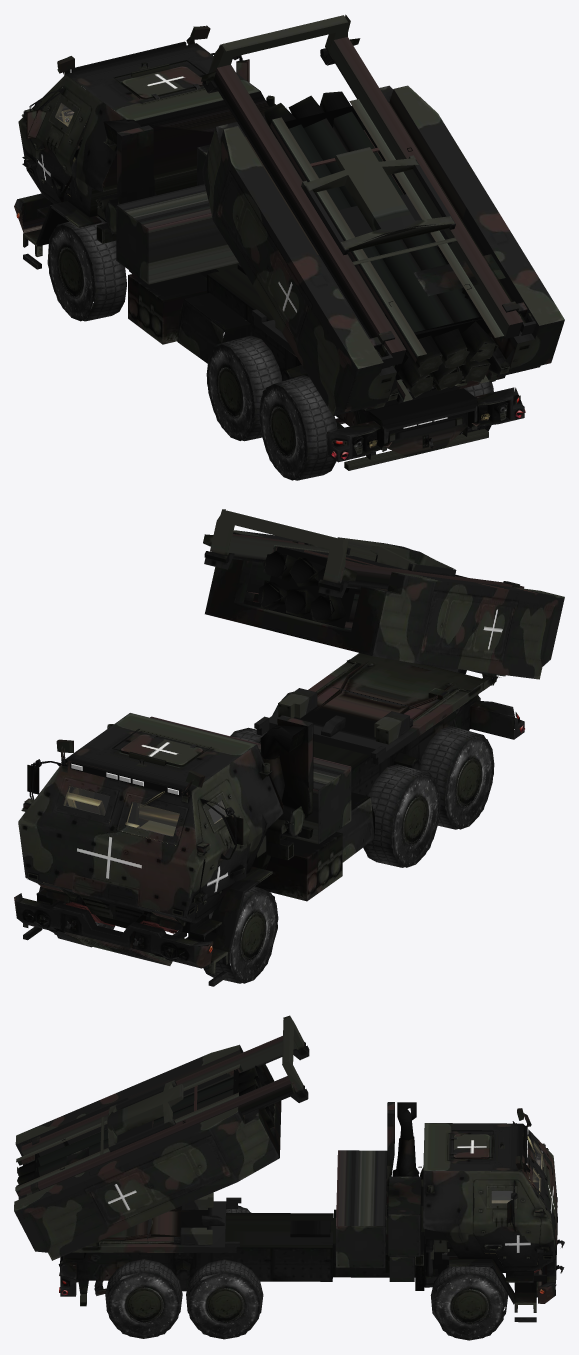
The model's file is type_himars.glb.
3 views of the same model, one above another, from view 1: azimuth 30°, elevation 25°; view 2: azimuth 150°, elevation 25°; view 3: azimuth 270°, elevation 25° (orthographic). The views are drawn at different scales.
Visible parts, largest first — view 1: misc_a_Material #147_0, chassis_Material #147_0, wheels_1_Material #147_0, bonnet_dam_Material #147_0; view 2: chassis_Material #147_0, misc_a_Material #147_0, wheels_1_Material #147_0, bonnet_dam_Material #148_0, glass_03 - Default_0, bonnet_dam_Material #147_0; view 3: chassis_Material #147_0, misc_a_Material #147_0, wheels_1_Material #147_0, bonnet_dam_Material #147_0, bonnet_dam_Material #148_0, glass_03 - Default_0.
Part boxes in pixels (bbox=[...]): misc_a_Material #147_0: bbox=[201, 14, 564, 415]; chassis_Material #147_0: bbox=[14, 25, 525, 470]; wheels_1_Material #147_0: bbox=[47, 218, 493, 480]; bonnet_dam_Material #147_0: bbox=[122, 53, 247, 99]; chassis_Material #147_0: bbox=[14, 653, 524, 986]; misc_a_Material #147_0: bbox=[203, 509, 564, 685]; wheels_1_Material #147_0: bbox=[54, 691, 494, 983]; bonnet_dam_Material #148_0: bbox=[41, 786, 248, 912]; glass_03 - Default_0: bbox=[64, 786, 226, 836]; bonnet_dam_Material #147_0: bbox=[24, 734, 202, 805]; chassis_Material #147_0: bbox=[58, 1102, 564, 1322]; misc_a_Material #147_0: bbox=[14, 1015, 309, 1260]; wheels_1_Material #147_0: bbox=[105, 1205, 507, 1340]; bonnet_dam_Material #147_0: bbox=[449, 1134, 544, 1266]; bonnet_dam_Material #148_0: bbox=[473, 1135, 547, 1264]; glass_03 - Default_0: bbox=[491, 1141, 543, 1203].
Bounding box in the file's own units: 2.44 × 3.76 × 7.
6 materials, 4 textured.
